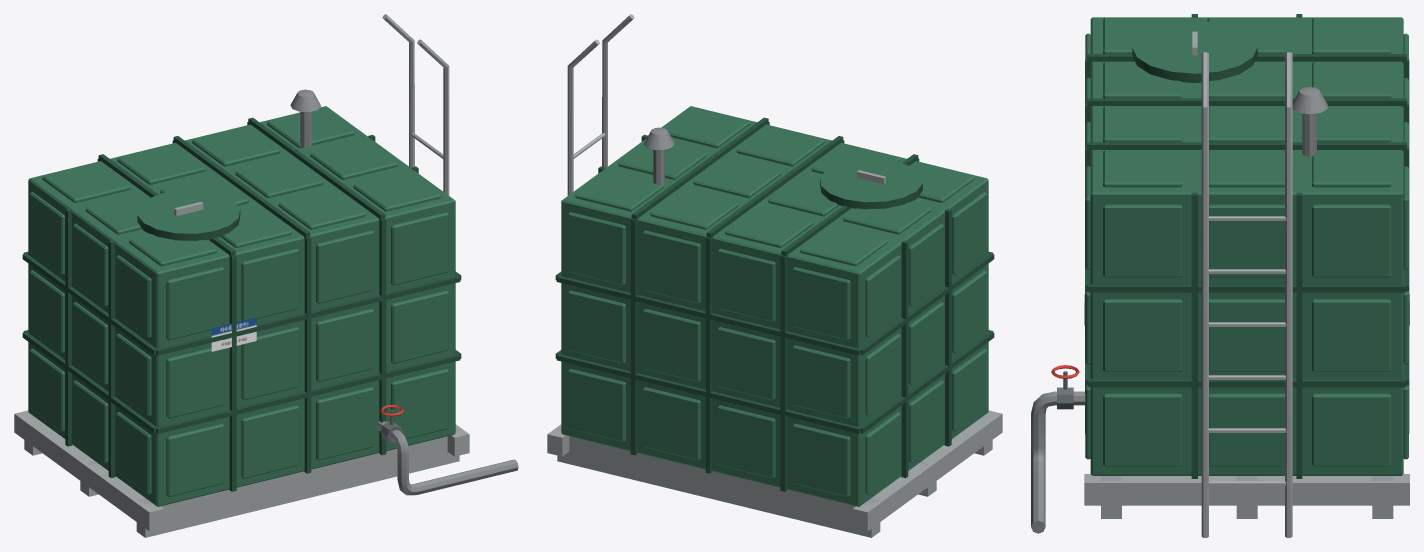
The model's file is SC_Util_Water_Tank_Green.gltf.
3 views of the same model, side by side, from view 1: azimuth 30°, elevation 25°; view 2: azimuth 150°, elevation 25°; view 3: azimuth 270°, elevation 25° (orthographic). The views are drawn at different scales.
Parts seen in each view (by area): view 1: SC_Util_Water_Tank_Green; view 2: SC_Util_Water_Tank_Green; view 3: SC_Util_Water_Tank_Green.
Boxes of the visible parts, x1,y1,x2,y2 form: SC_Util_Water_Tank_Green: [14, 14, 518, 537]; SC_Util_Water_Tank_Green: [547, 14, 1002, 537]; SC_Util_Water_Tank_Green: [1031, 14, 1409, 537].
Bounding box in the file's own units: 2.34 × 2.48 × 1.81.
2 materials, 2 textured.
